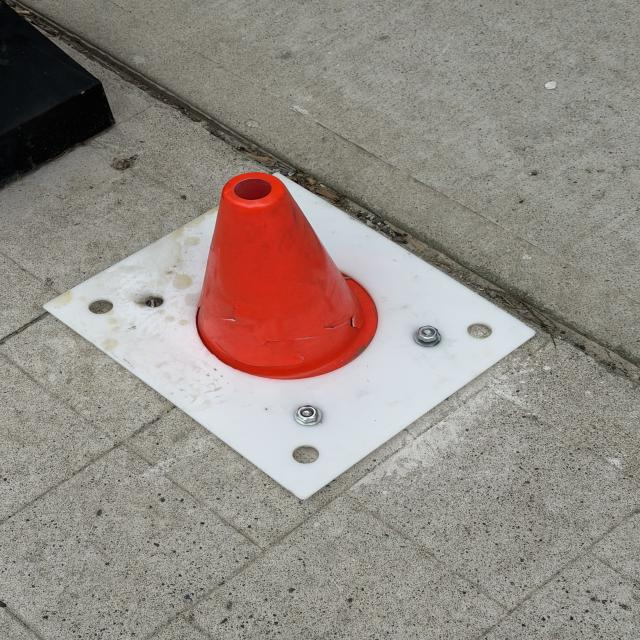Traffic Cone: (191, 174, 382, 382)
